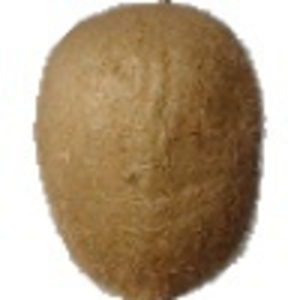kiwi: (32, 1, 266, 300)
